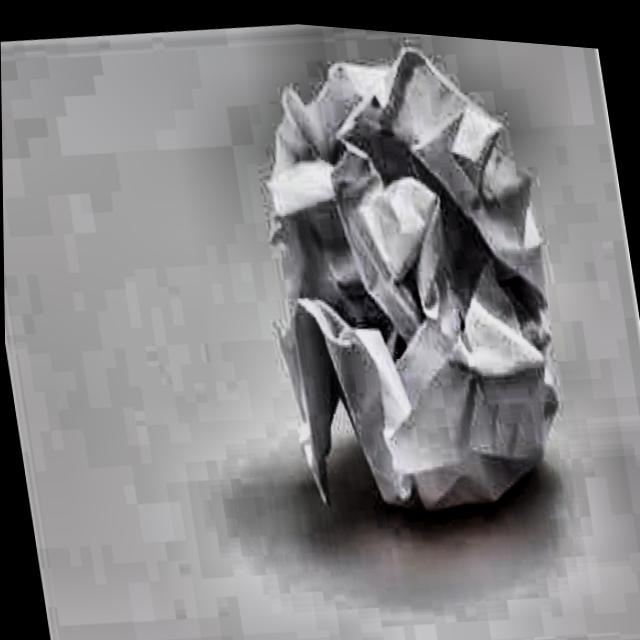Paper: (229, 15, 588, 540)
